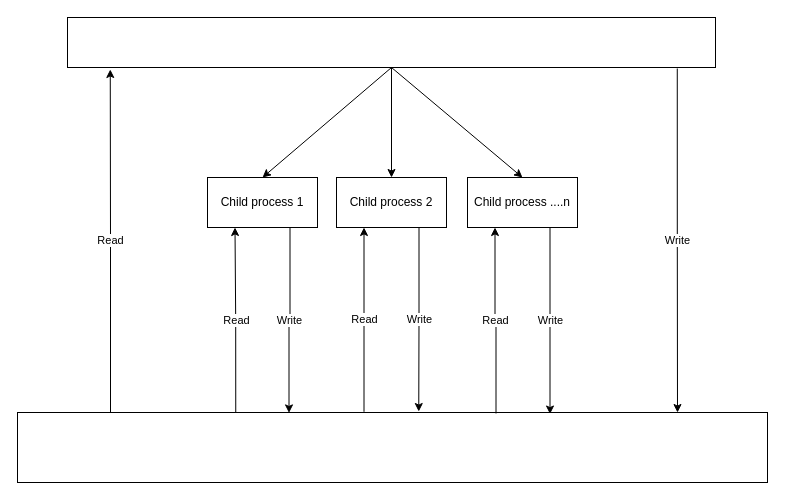
This 785x500 diagram has some shape labels left out. Here are the shapes that lost their labels. From the top down, the centre of each, then its label:
At [391,42]: "Main Process".
At [392,447]: "«interface» Shared Memory (Message Queue)".
